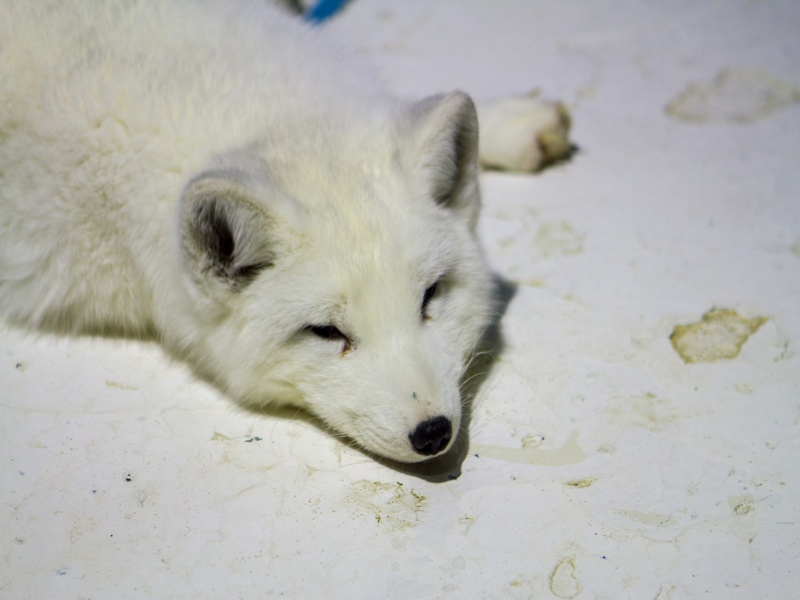fox: (1, 7, 577, 472)
